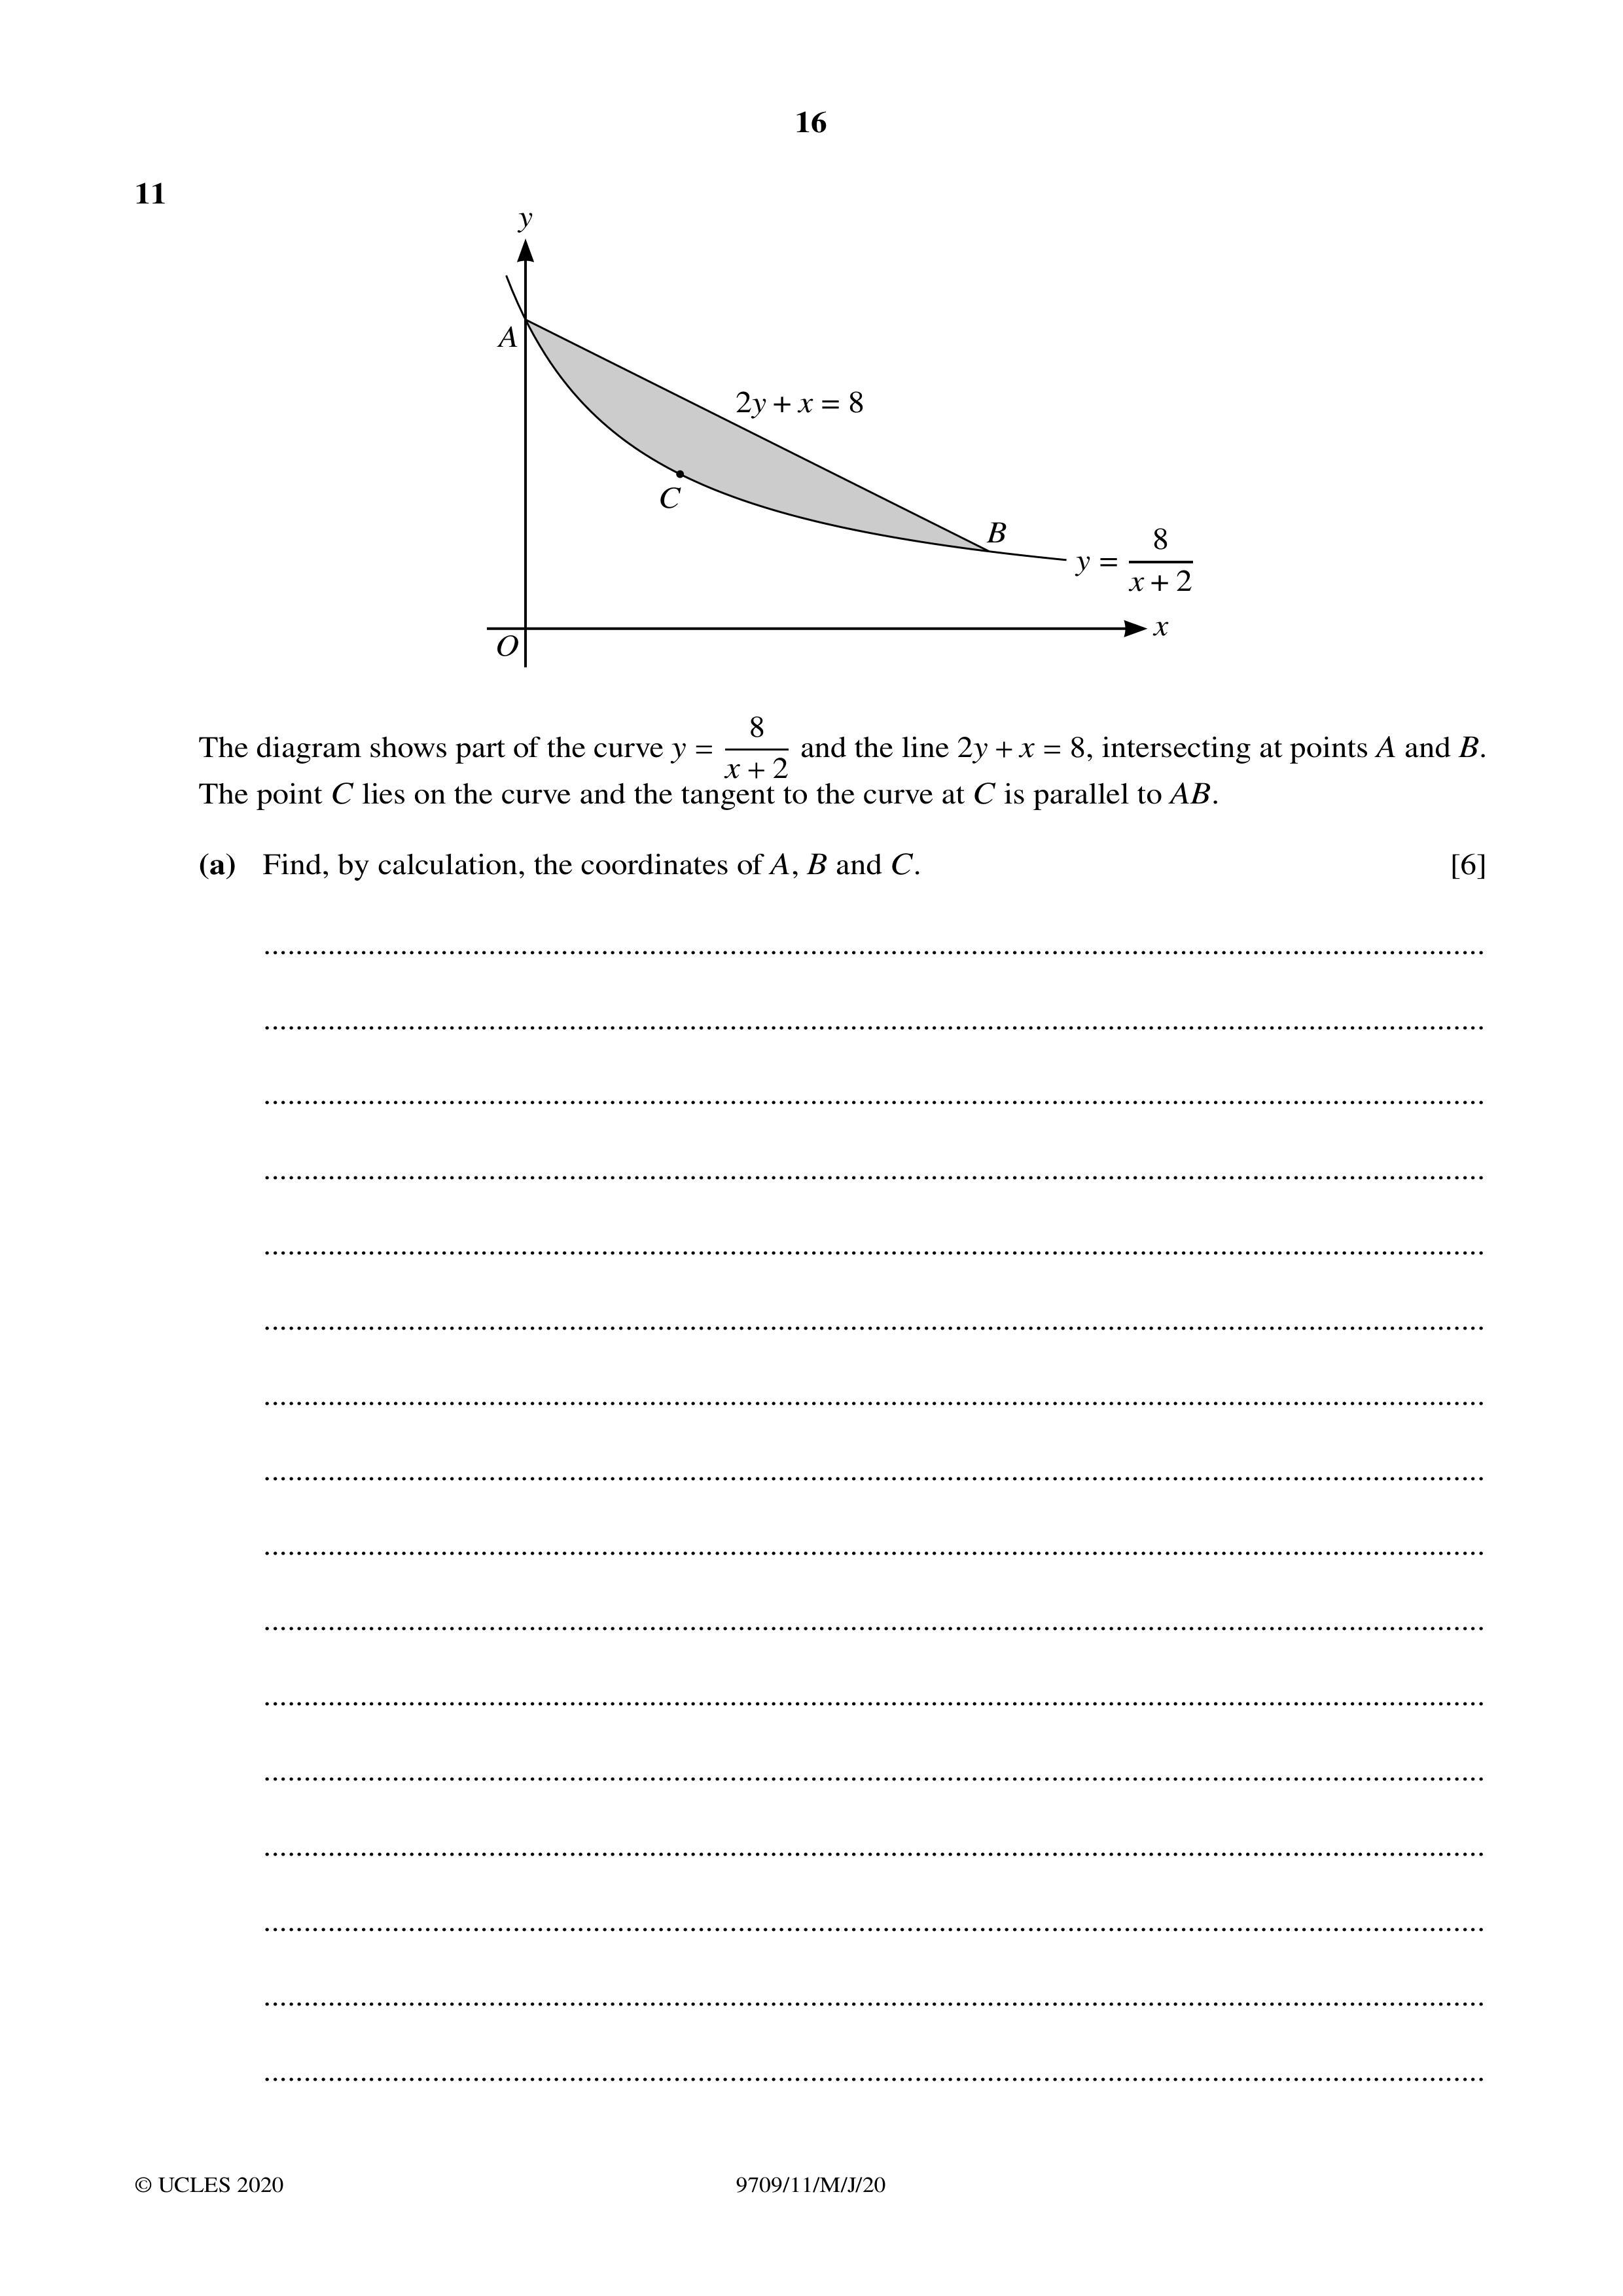question: (97, 151, 1533, 918)
